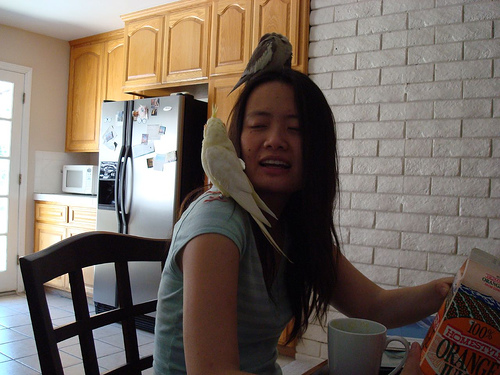without_mask: (236, 75, 327, 199)
